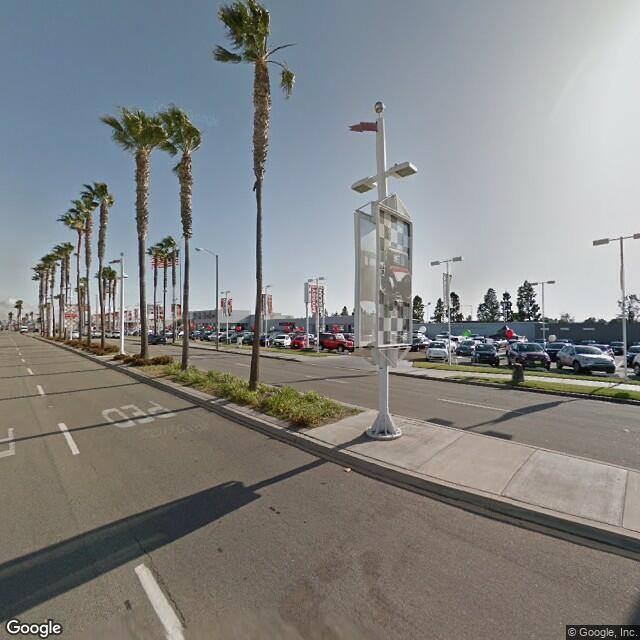litter: (336, 465, 351, 479)
